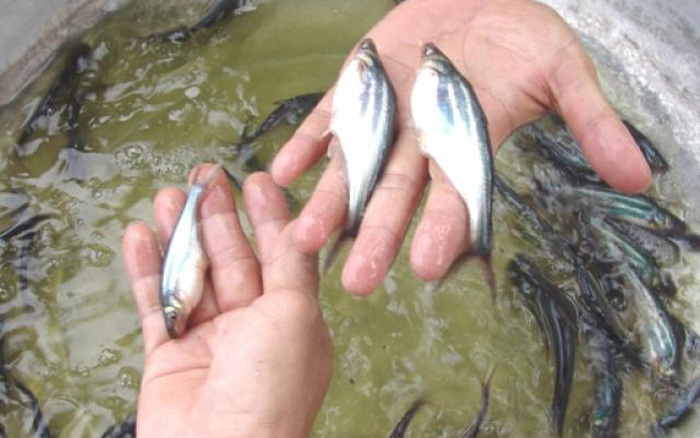fish: (417, 52, 481, 203), (338, 34, 386, 208), (165, 188, 204, 333)
